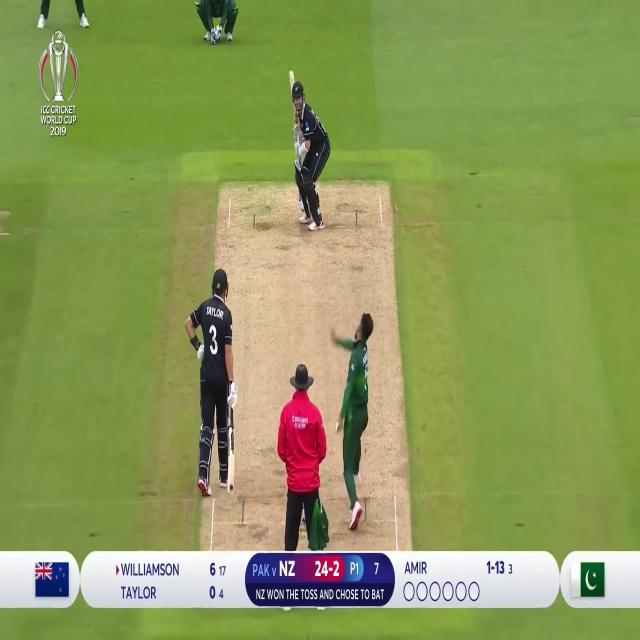bat: (227, 427, 236, 498), (288, 70, 296, 124)
toe: (227, 489, 235, 496)
